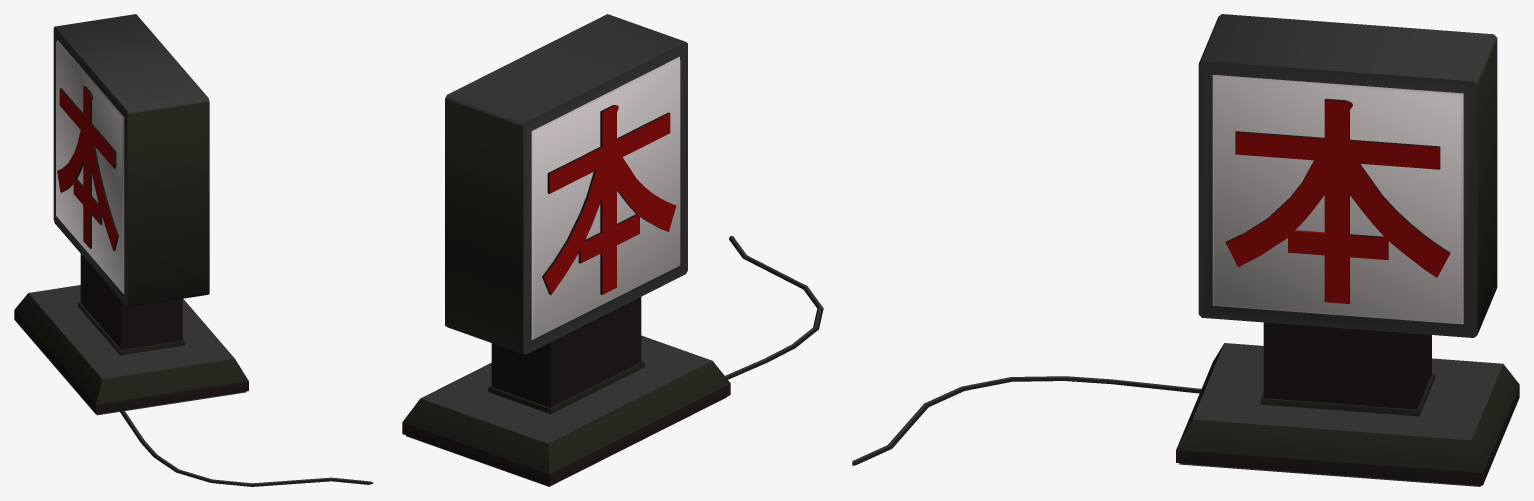
3 renders of one model, left to right at view 1: azimuth 30°, elevation 25°; view 2: azimuth 150°, elevation 25°; view 3: azimuth 270°, elevation 25°, orthographic. The views are drawn at different scales.
Parts seen in each view (by area): view 1: Joint_0_Object_1, Joint_0_Object_0; view 2: Joint_0_Object_1, Joint_0_Object_0; view 3: Joint_0_Object_1, Joint_0_Object_0.
Part boxes in pixels (box(x1,y1,x2,y2)): Joint_0_Object_1: box(14, 14, 248, 414); Joint_0_Object_0: box(96, 391, 373, 486); Joint_0_Object_1: box(402, 14, 730, 485); Joint_0_Object_0: box(406, 236, 823, 486); Joint_0_Object_1: box(1176, 14, 1519, 485); Joint_0_Object_0: box(852, 376, 1480, 486).
Size of the model in its own units: 930 by 1500 by 2357.
Materials: 2 (2 with a texture image).
